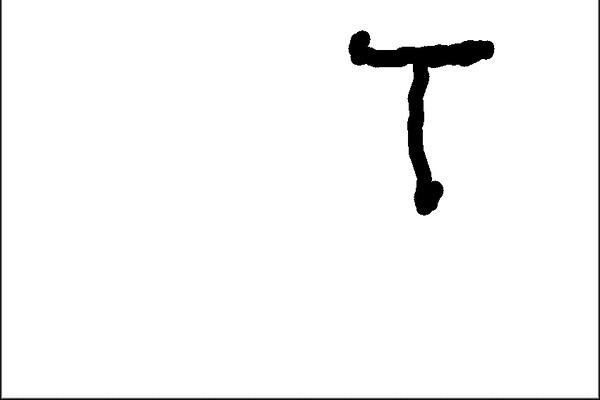T: (341, 21, 511, 216)
